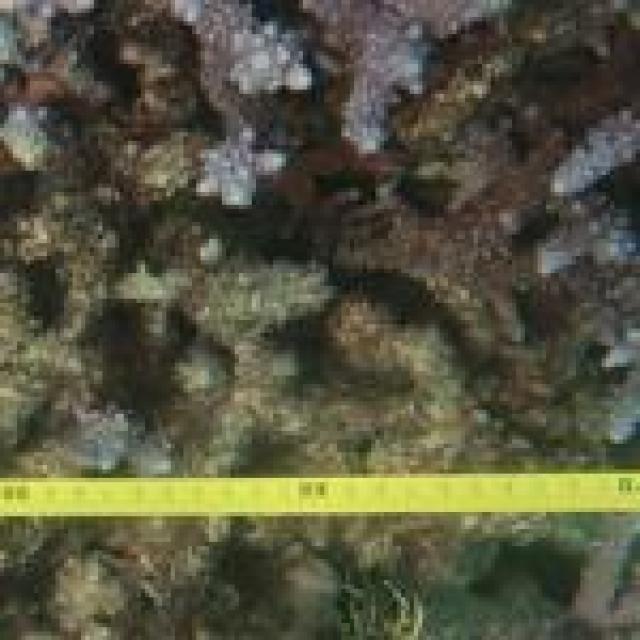Bleached Coral: (217, 25, 334, 109), (188, 139, 303, 206)
